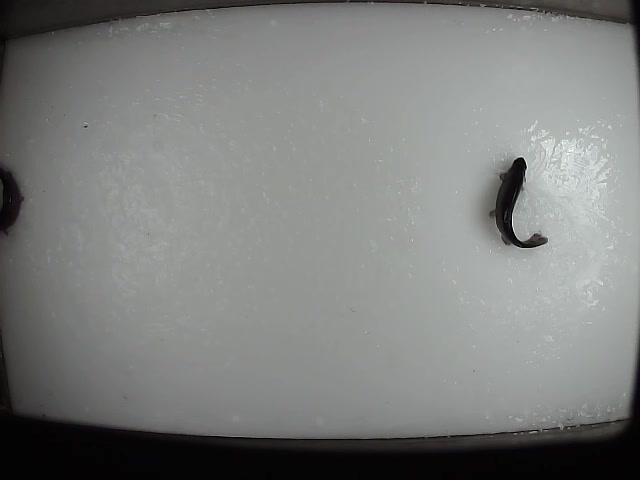Fish: (489, 157, 548, 248)
